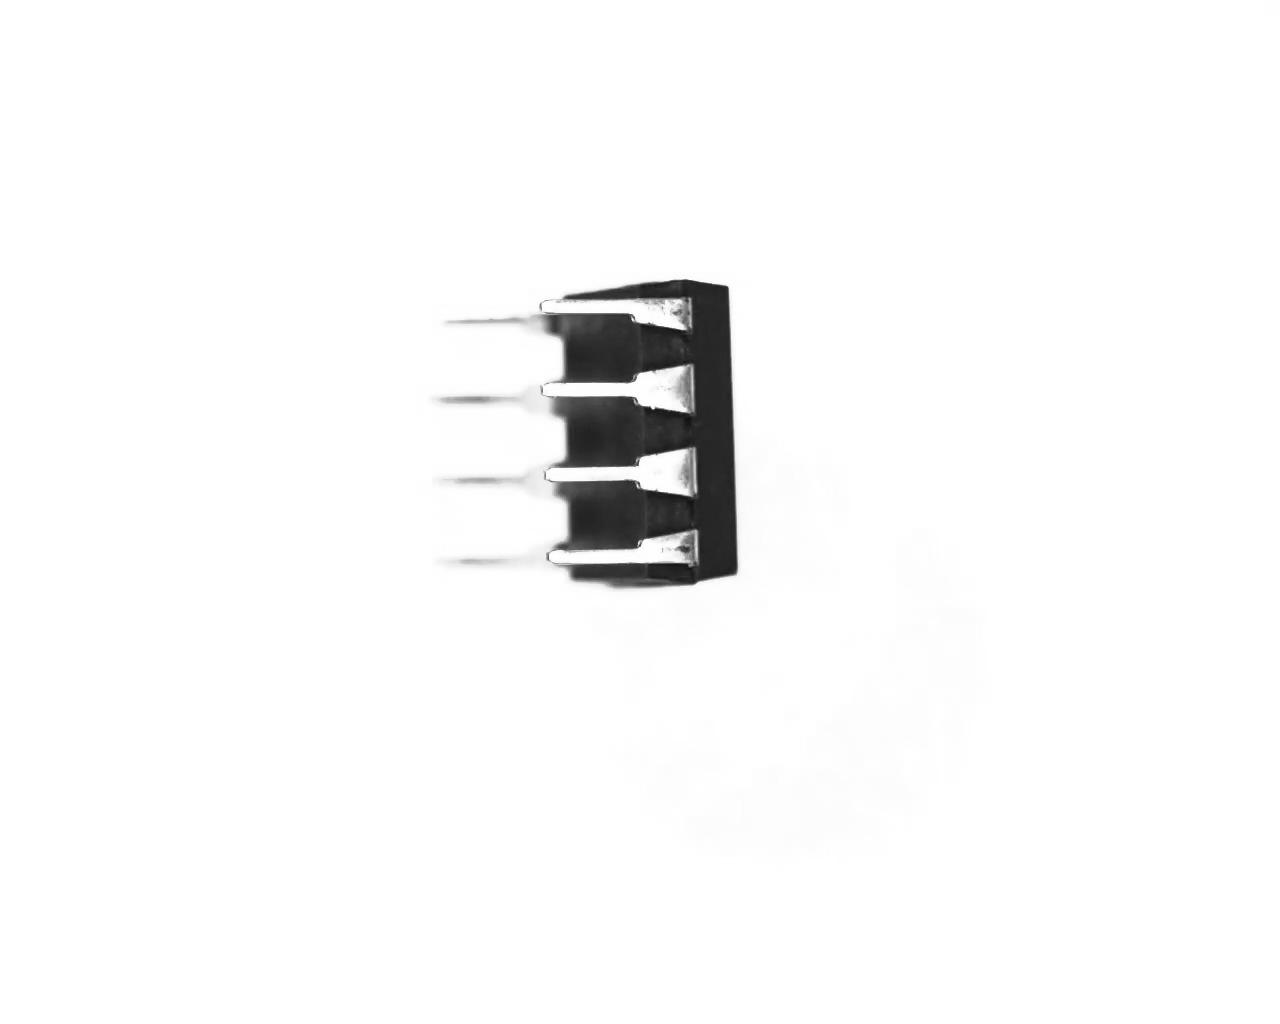Leg: (536, 360, 699, 420), (538, 527, 707, 580), (542, 451, 700, 505), (427, 536, 575, 591), (529, 290, 696, 338), (426, 459, 568, 513), (425, 382, 575, 430), (436, 301, 572, 349)
